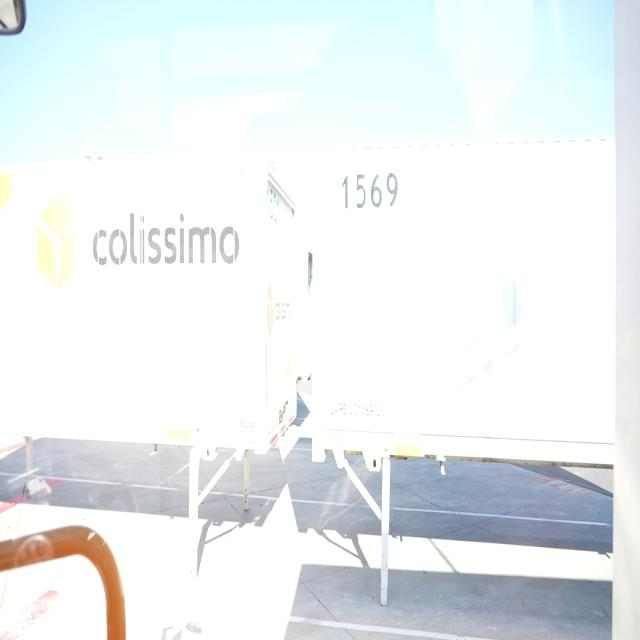Code: (338, 160, 404, 220)
